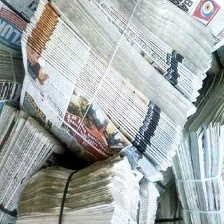news_paper: (9, 0, 220, 171), (15, 151, 161, 223), (162, 65, 224, 224), (0, 100, 71, 224), (157, 0, 223, 61), (0, 0, 51, 59), (0, 51, 32, 115)
